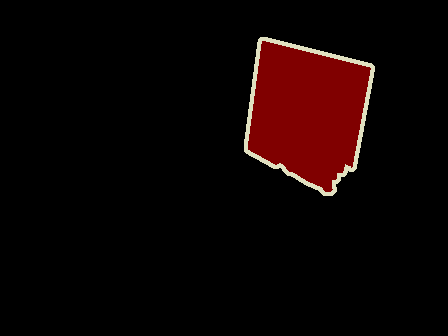tvmonitor: (245, 41, 384, 205)
